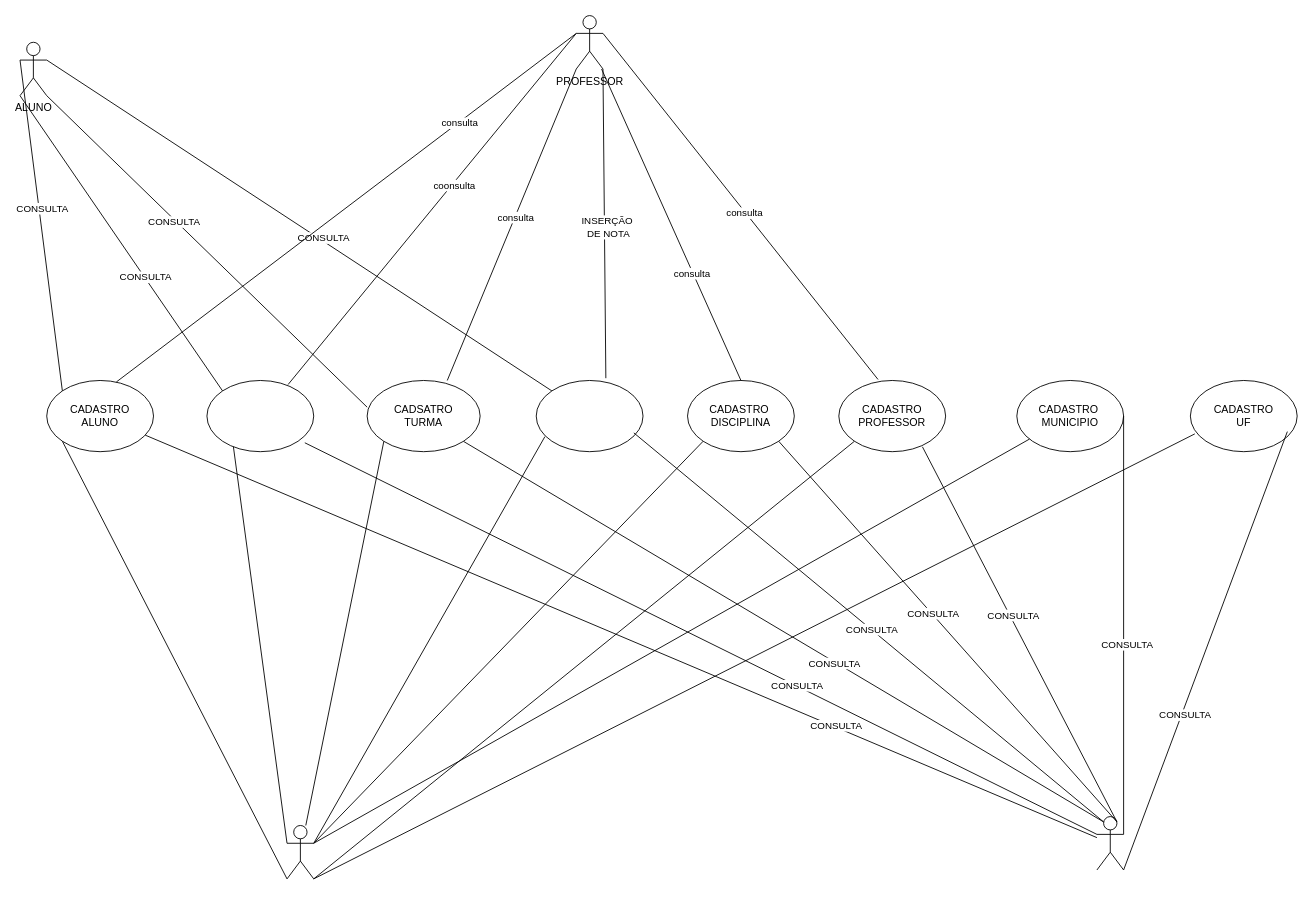
Some shapes in this 1313 by 913 pixel diagram are drawn without their labels. The shapes that lost their labels are listed below. From the top down, each one's box as (x1, y1, x2, y2) in pixels, then its label:
(206, 380, 314, 452): CADASTRO ALUNO_TURMA
(535, 380, 643, 452): CADASTRO ALUNO_DISCIPLINA
(286, 825, 314, 879): FUNCIONARIO
(1096, 816, 1124, 870): COORDENADOR
